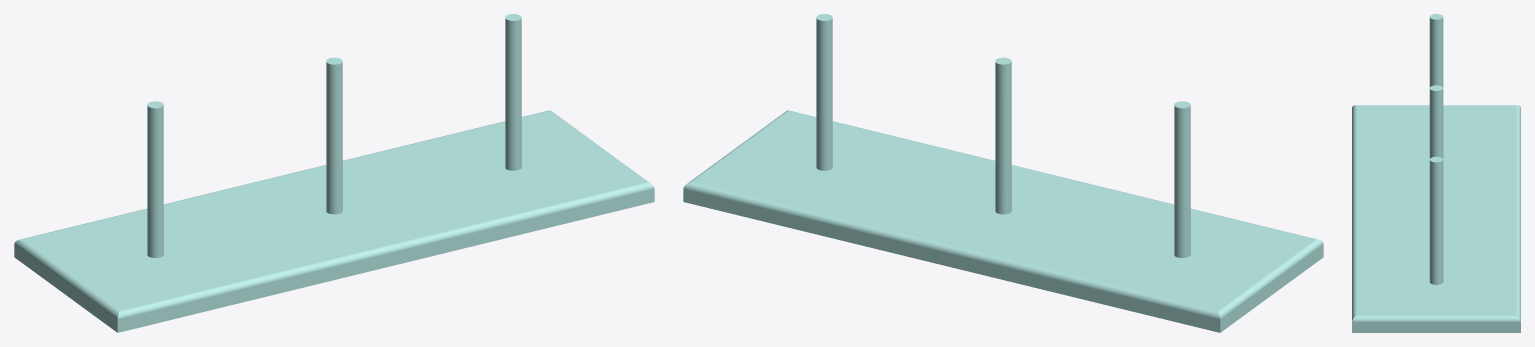
File: towerbase.dae
3 renders of one model, left to right at view 1: azimuth 30°, elevation 25°; view 2: azimuth 150°, elevation 25°; view 3: azimuth 270°, elevation 25°, orthographic. The views are drawn at different scales.
Visible parts, largest first — view 1: ID2; view 2: ID2; view 3: ID2.
Part boxes in pixels (<box>): ID2: <box>14,14,654,332</box>; ID2: <box>683,14,1323,332</box>; ID2: <box>1352,14,1520,332</box>.
Bounding box in the file's own units: 0.3 × 0.1 × 0.09.
